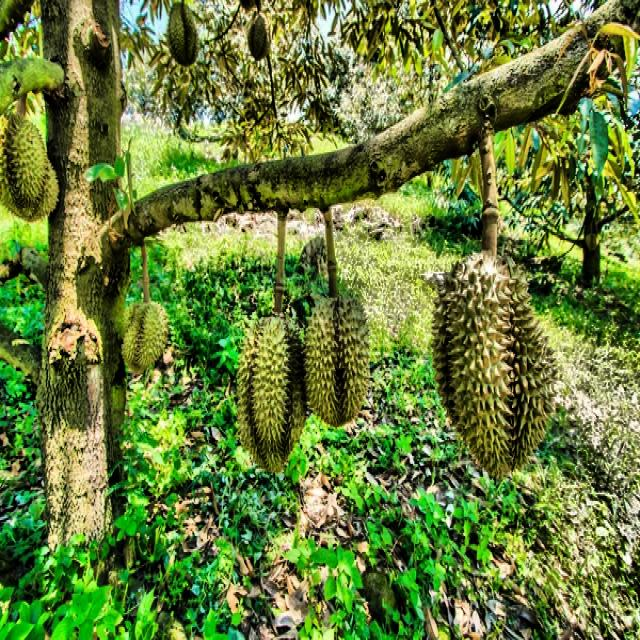arvore: (26, 0, 153, 606)
